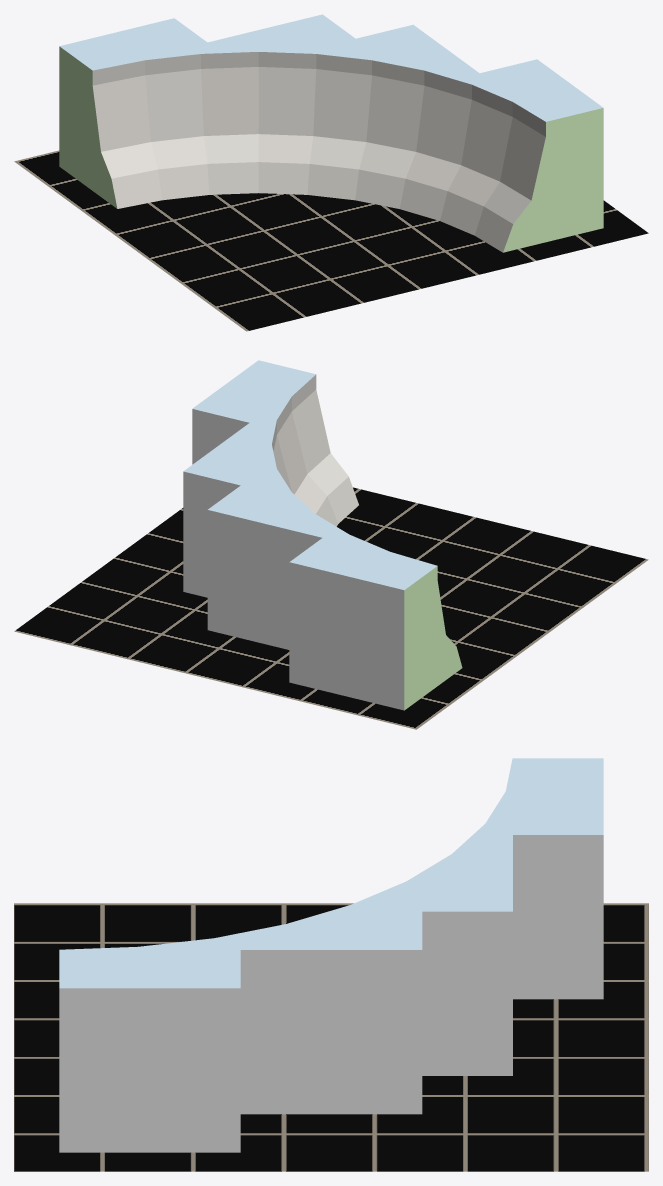
The model's file is Wall_Curve_Inner_6x6_Base.glb.
The picture shows the model from 3 angles, top to bottom: view 1: azimuth 30°, elevation 25°; view 2: azimuth 150°, elevation 25°; view 3: azimuth 270°, elevation 25°; orthographic projection. The views are drawn at different scales.
Parts seen in each view (by area): view 1: Wall_Curve_Inner_6x6_Base, Floor; view 2: Wall_Curve_Inner_6x6_Base, Floor; view 3: Wall_Curve_Inner_6x6_Base, Floor.
Part boxes in pixels (x1,y1,x2,y2): Wall_Curve_Inner_6x6_Base: [59, 14, 603, 252]; Floor: [14, 150, 648, 331]; Wall_Curve_Inner_6x6_Base: [183, 360, 462, 710]; Floor: [14, 487, 648, 729]; Wall_Curve_Inner_6x6_Base: [59, 758, 603, 1152]; Floor: [14, 903, 648, 1171].
Bounding box in the file's own units: 700 × 200 × 700.
5 materials, 1 textured.
